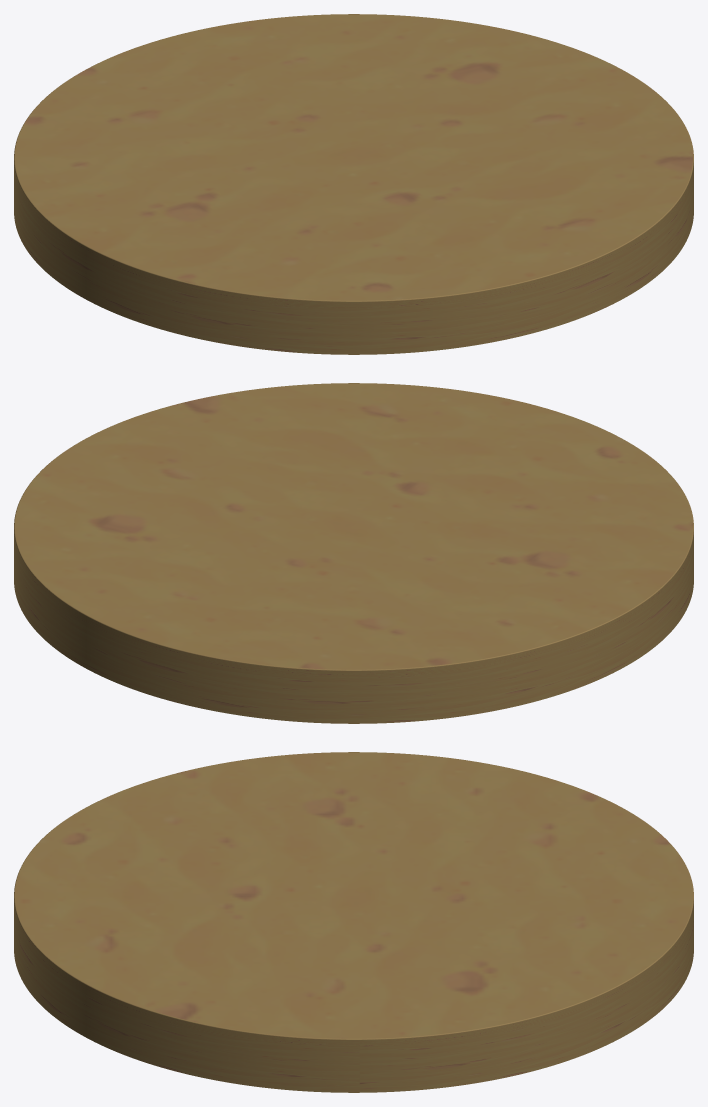
File: starter-15.glb
3 views of the same model, one above another, from view 1: azimuth 30°, elevation 25°; view 2: azimuth 150°, elevation 25°; view 3: azimuth 270°, elevation 25° (orthographic).
Parts seen in each view (by area): view 1: geometry_0; view 2: geometry_0; view 3: geometry_0.
Part boxes in pixels (bbox=[...]): geometry_0: bbox=[14, 14, 693, 354]; geometry_0: bbox=[14, 383, 693, 723]; geometry_0: bbox=[14, 752, 693, 1092].
Bounding box in the file's own units: 68.96 × 6 × 68.96.
Materials: 1 (1 with a texture image).
